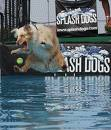tennis ball: (15, 57, 24, 65)
